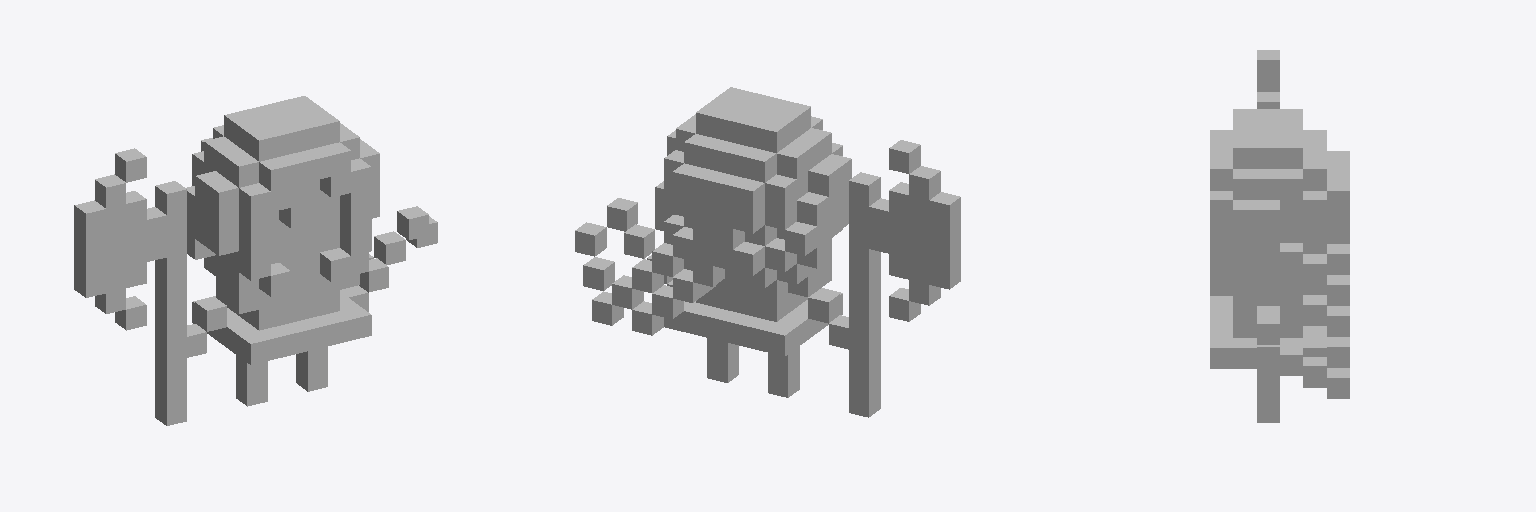
The model's file is chr_knight.obj.
The picture shows the model from 3 angles: view 1: azimuth 30°, elevation 25°; view 2: azimuth 150°, elevation 25°; view 3: azimuth 270°, elevation 25°; orthographic projection.
Parts seen in each view (by area): view 1: object 1; view 2: object 1; view 3: object 1.
Part boxes in pixels (x1,y1,x2,y2): object 1: (74,96,437,425); object 1: (575,87,960,417); object 1: (1210,50,1349,422).
Bounding box in the file's own units: 1.8 × 1.3 × 0.6.